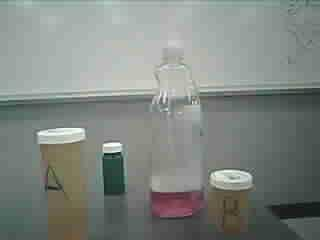Bottle A: (31, 127, 96, 240)
Bottle B: (207, 157, 260, 240)
Bottle C: (100, 136, 134, 202)
hazard: (142, 25, 208, 225)
